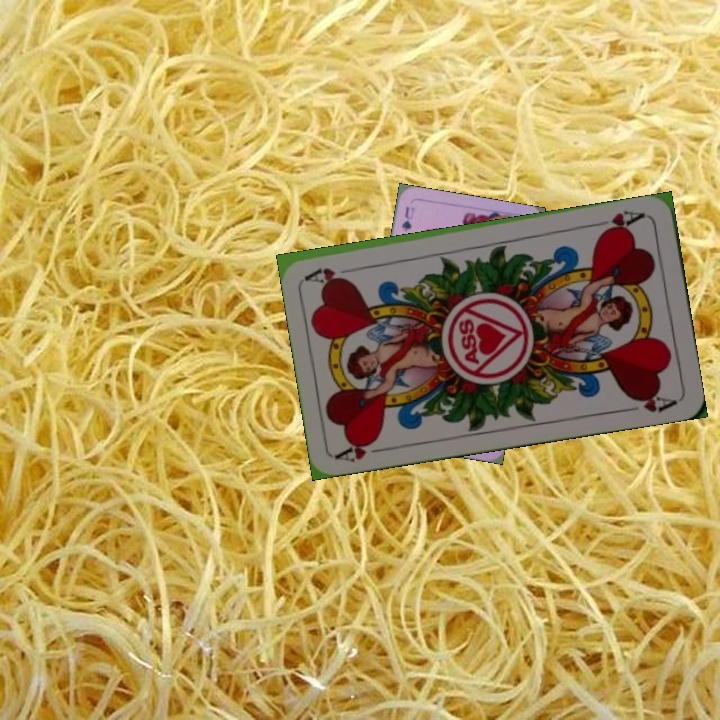GU: (398, 202, 417, 234)
HA: (333, 434, 392, 465), (597, 206, 648, 237)
